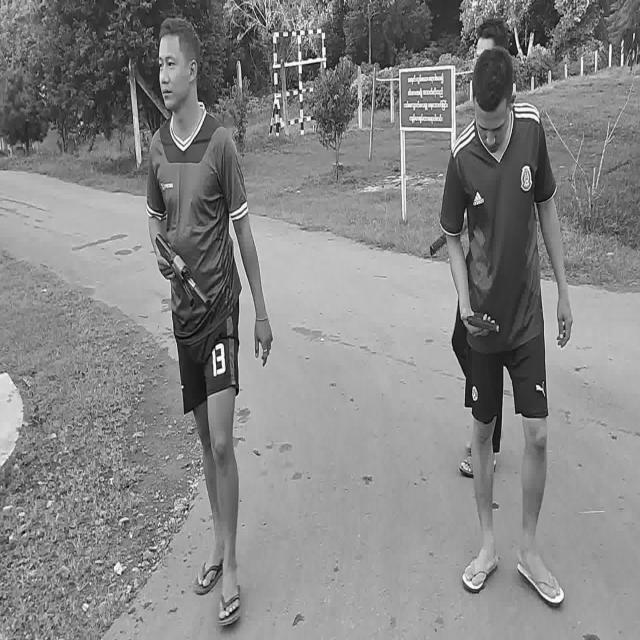gun: (156, 233, 210, 310), (467, 312, 499, 332)
